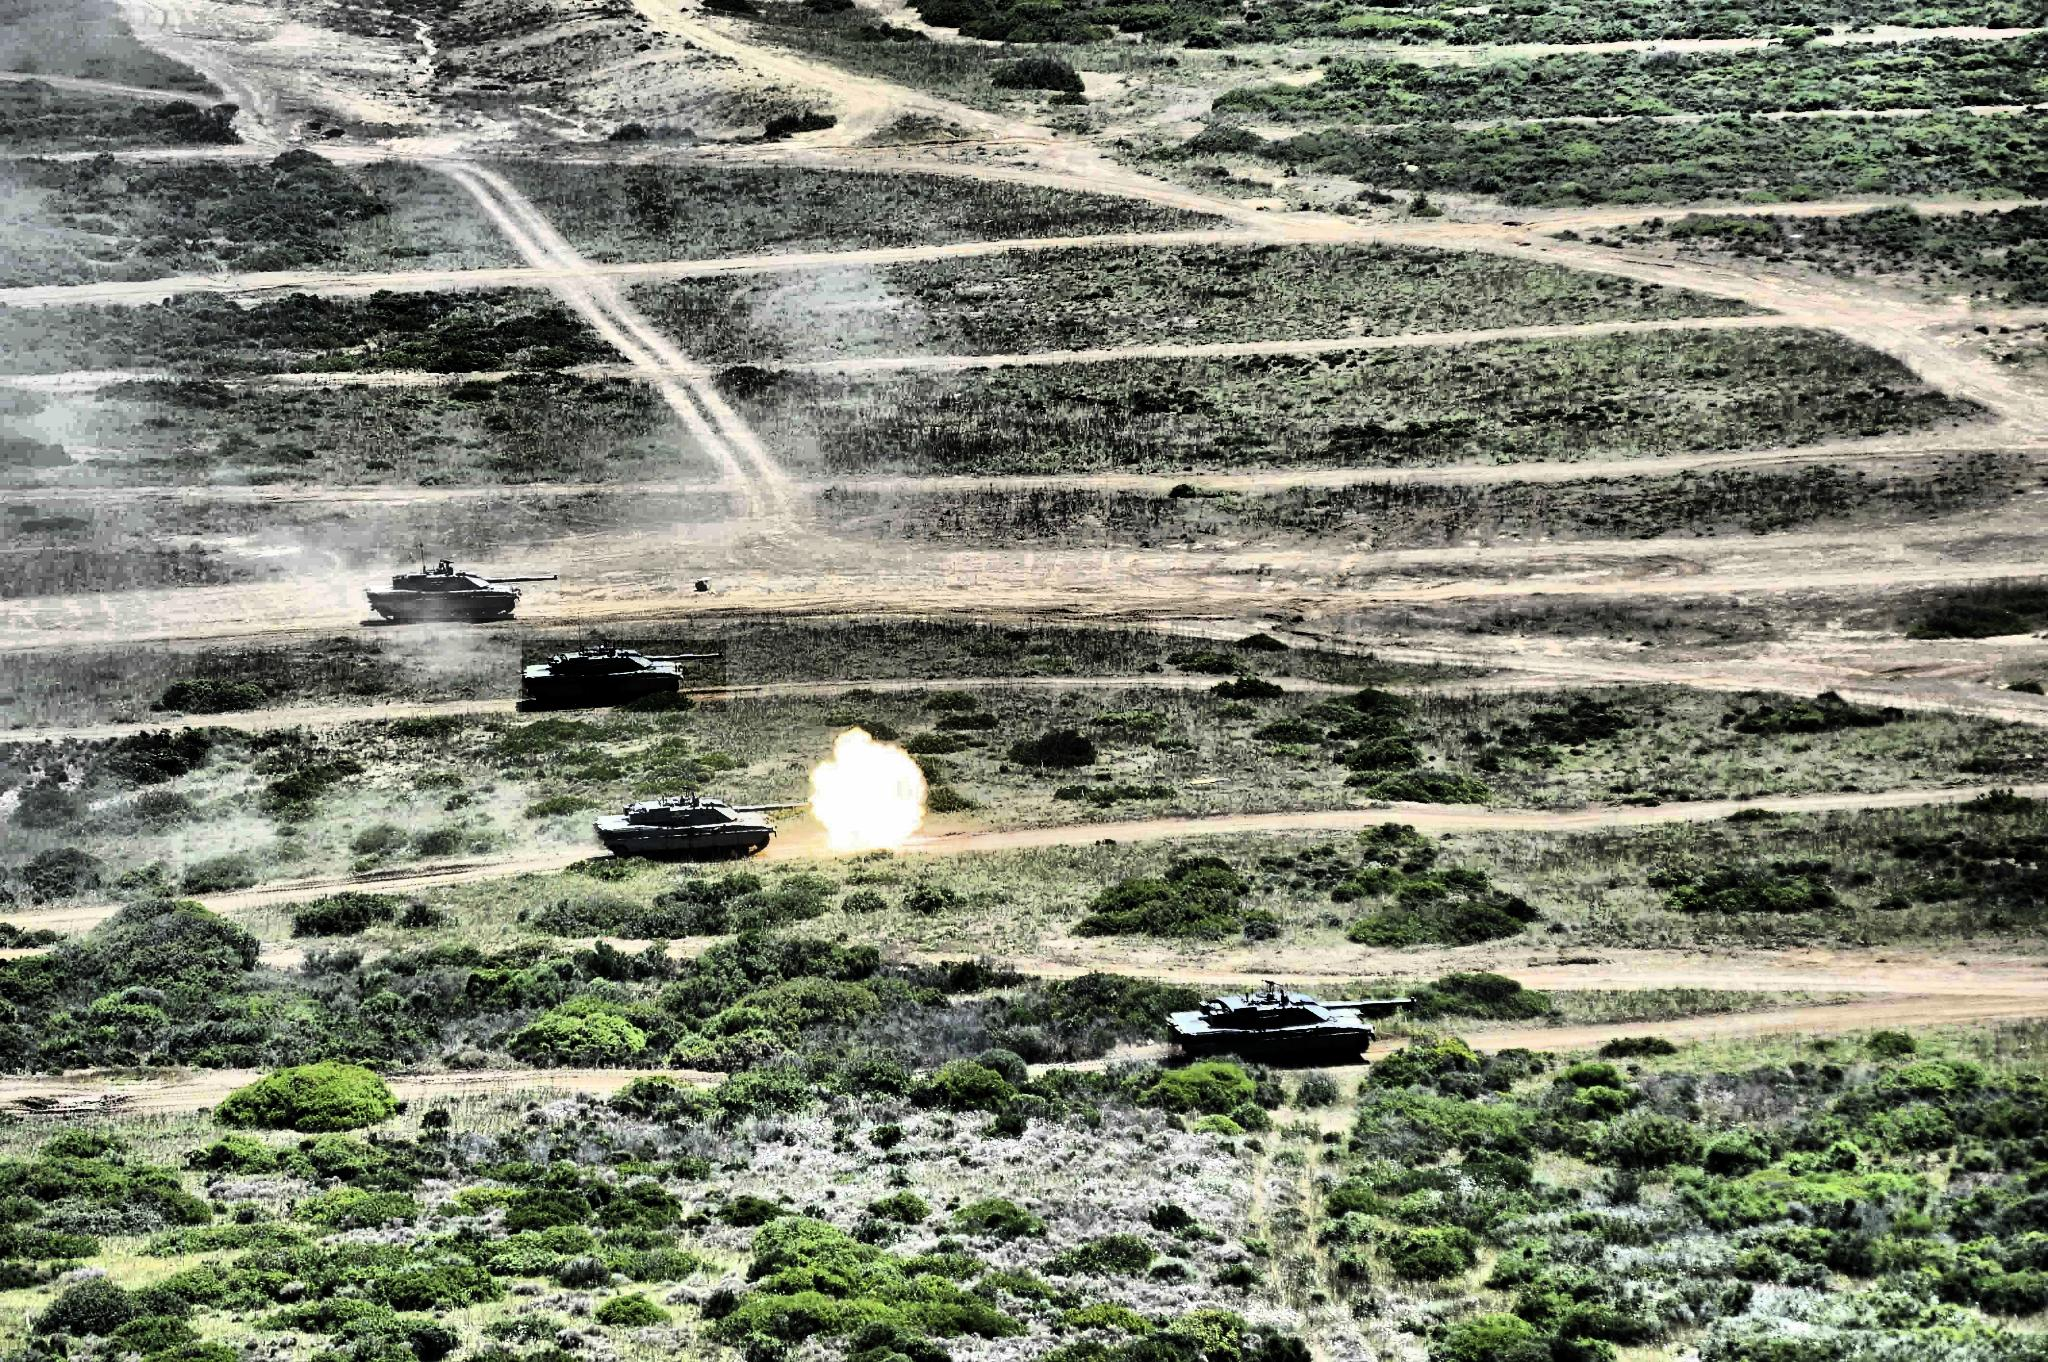military-vehicle: (1168, 990, 1414, 1063), (523, 640, 726, 711), (600, 795, 810, 863), (366, 564, 561, 619)
